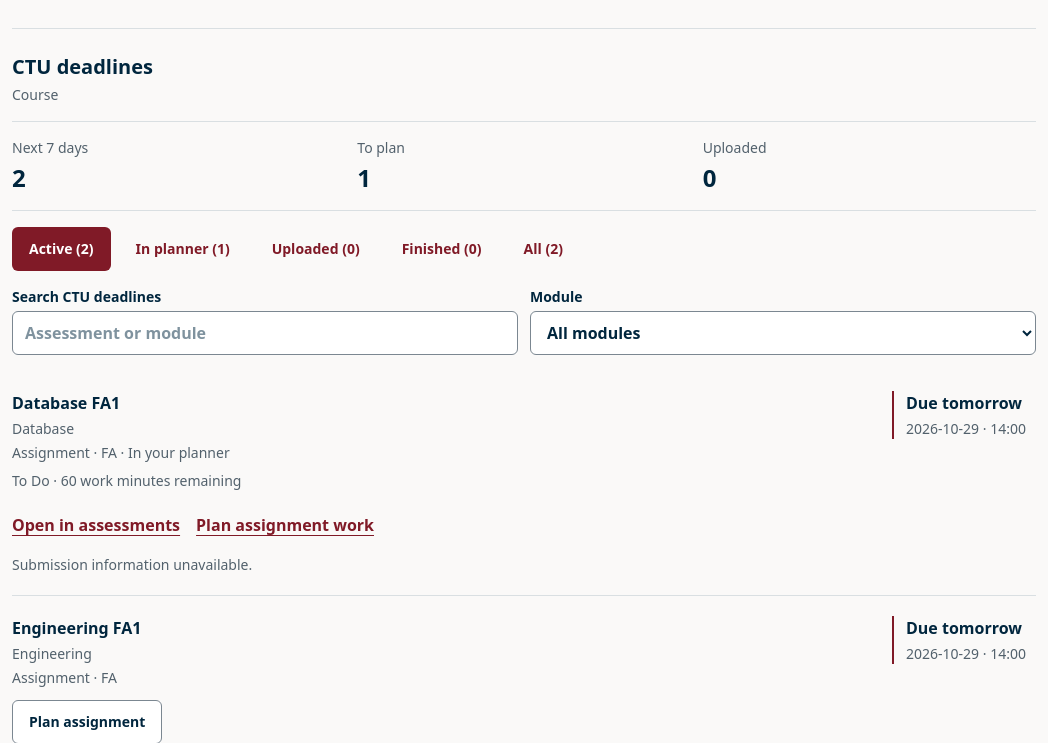
Test: saved CTU presentation › filters by module and title, and links an exact planned assessment
Select "Database" in the dropdown labelled "Module" at (783, 333), box x1=530 y1=311 x2=1036 y2=355
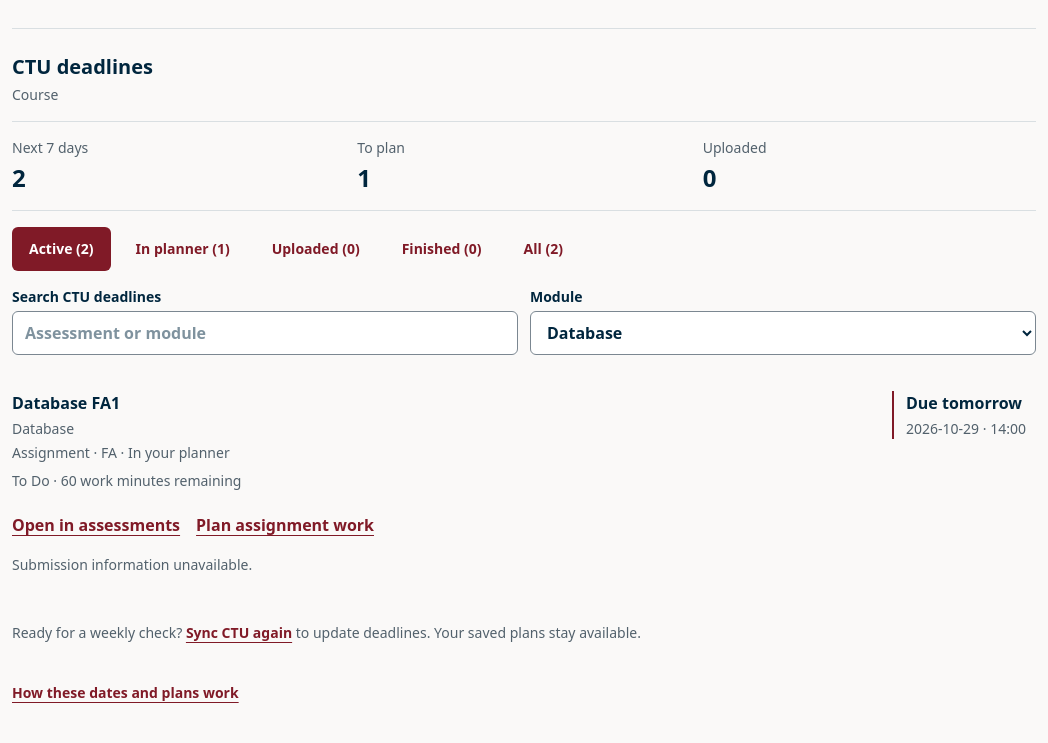
Now the text "Engineering FA1" is gone
Type "missing term" into the search field.
click(265, 333); type("missing term")  # box x1=12 y1=311 x2=518 y2=355
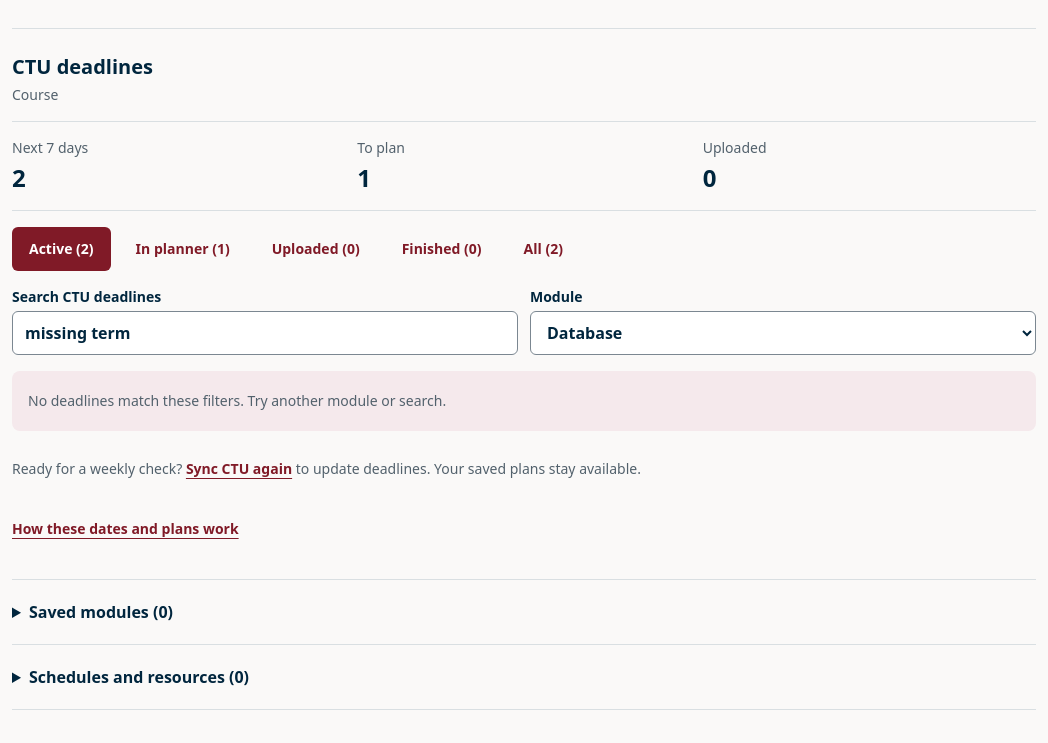
Now the text "No deadlines match these filters. Try another module or search." is shown, box x1=12 y1=371 x2=1036 y2=431
